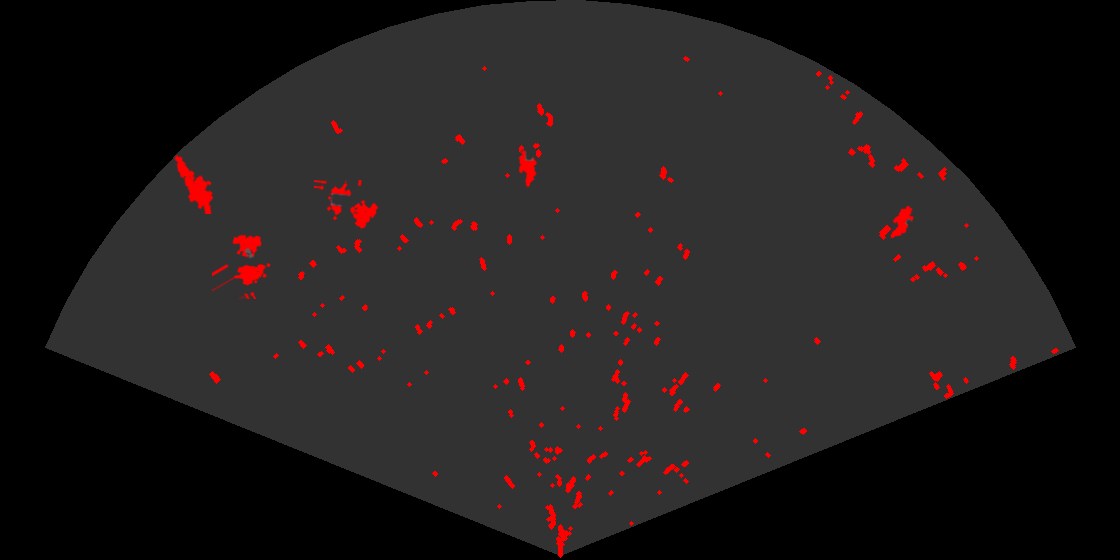AUV: (889, 204, 915, 240), (517, 148, 538, 189)
cage: (212, 233, 272, 299), (314, 180, 380, 230)
frogman: (173, 153, 215, 214)
